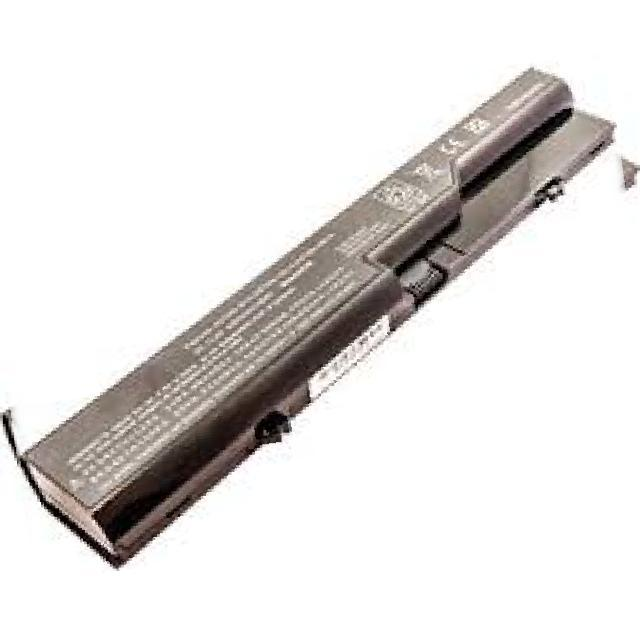Battery: (20, 19, 623, 593)
